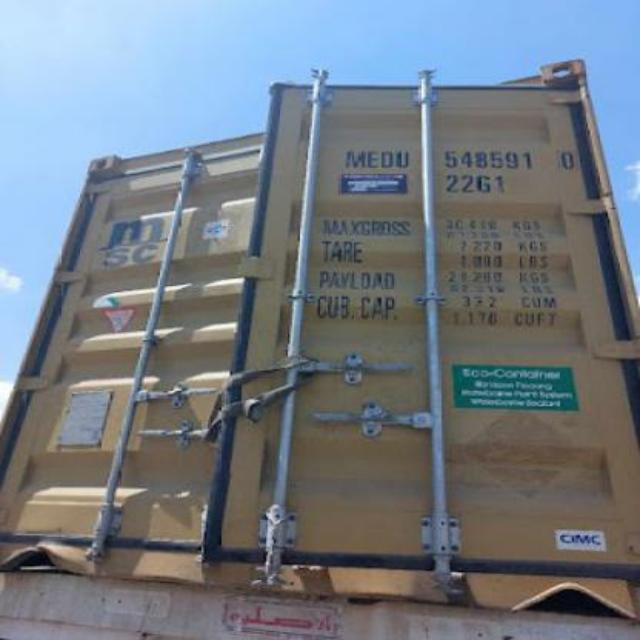0: (560, 152, 576, 168)
1: (520, 150, 536, 170)
4: (461, 148, 474, 170)
5: (444, 148, 460, 170), (491, 151, 504, 169)
8: (474, 146, 488, 170)
9: (504, 150, 520, 170)
D: (378, 151, 394, 169)
E: (366, 151, 379, 169)
M: (344, 151, 368, 169)
U: (394, 151, 410, 169)
